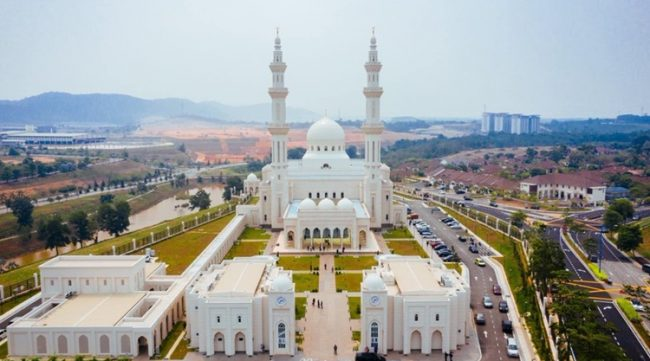Mosque: (260, 34, 388, 234)
